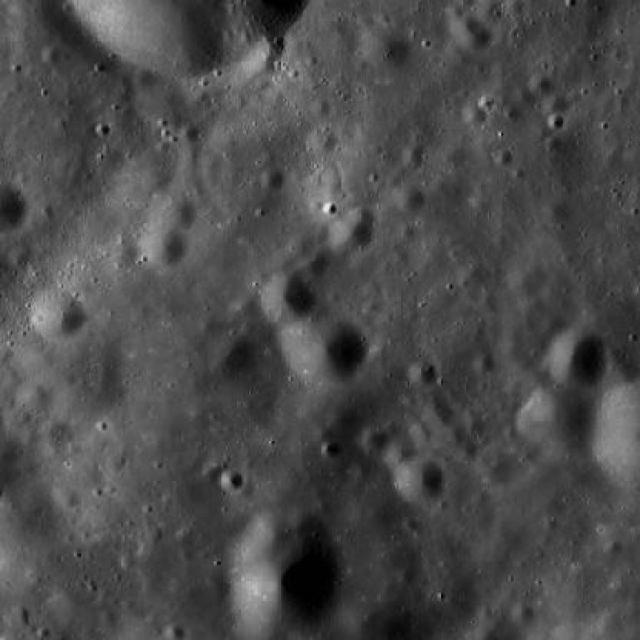crater: (225, 520, 348, 638), (22, 326, 127, 426), (282, 308, 364, 386), (519, 384, 593, 454), (548, 330, 610, 388), (339, 587, 398, 640), (30, 288, 86, 342), (260, 270, 314, 322), (136, 222, 187, 270), (206, 331, 257, 378), (396, 456, 446, 502), (149, 191, 197, 237), (362, 24, 409, 70), (134, 144, 180, 188), (598, 352, 640, 396), (480, 448, 523, 490), (248, 505, 290, 547), (330, 214, 372, 254), (508, 260, 546, 298), (17, 381, 51, 414), (422, 396, 456, 429), (432, 419, 466, 452), (39, 418, 72, 449), (394, 182, 428, 212), (460, 22, 491, 52), (386, 438, 416, 467), (288, 502, 317, 532), (308, 127, 338, 155), (362, 428, 391, 456), (409, 359, 438, 387), (244, 52, 273, 80), (450, 9, 479, 37), (256, 34, 284, 62), (227, 476, 255, 502), (302, 251, 330, 277), (441, 142, 468, 168), (452, 436, 478, 462), (547, 196, 573, 222), (3, 405, 29, 430), (472, 0, 500, 22), (219, 468, 244, 492), (408, 420, 434, 443), (544, 94, 570, 117), (463, 102, 488, 125), (402, 144, 426, 167), (236, 290, 259, 313), (596, 608, 618, 630), (8, 602, 30, 624), (59, 486, 81, 508), (352, 206, 374, 228), (198, 313, 220, 335), (530, 72, 552, 94), (500, 340, 522, 362), (509, 602, 531, 622), (10, 244, 32, 264), (262, 171, 284, 191), (540, 316, 562, 336), (134, 68, 154, 88), (601, 536, 621, 555), (502, 323, 522, 342), (310, 98, 330, 116), (602, 150, 622, 168), (116, 550, 135, 568), (164, 623, 184, 640), (466, 417, 484, 435), (476, 354, 494, 372), (504, 0, 526, 14), (40, 47, 58, 64), (180, 124, 198, 140), (322, 439, 338, 456), (398, 566, 414, 582), (204, 464, 221, 479), (0, 0, 2, 2)
